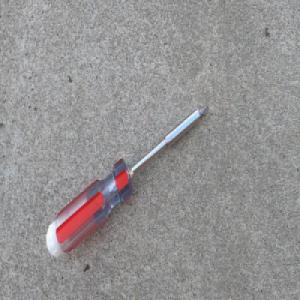Screwdriver: (44, 103, 210, 262)
